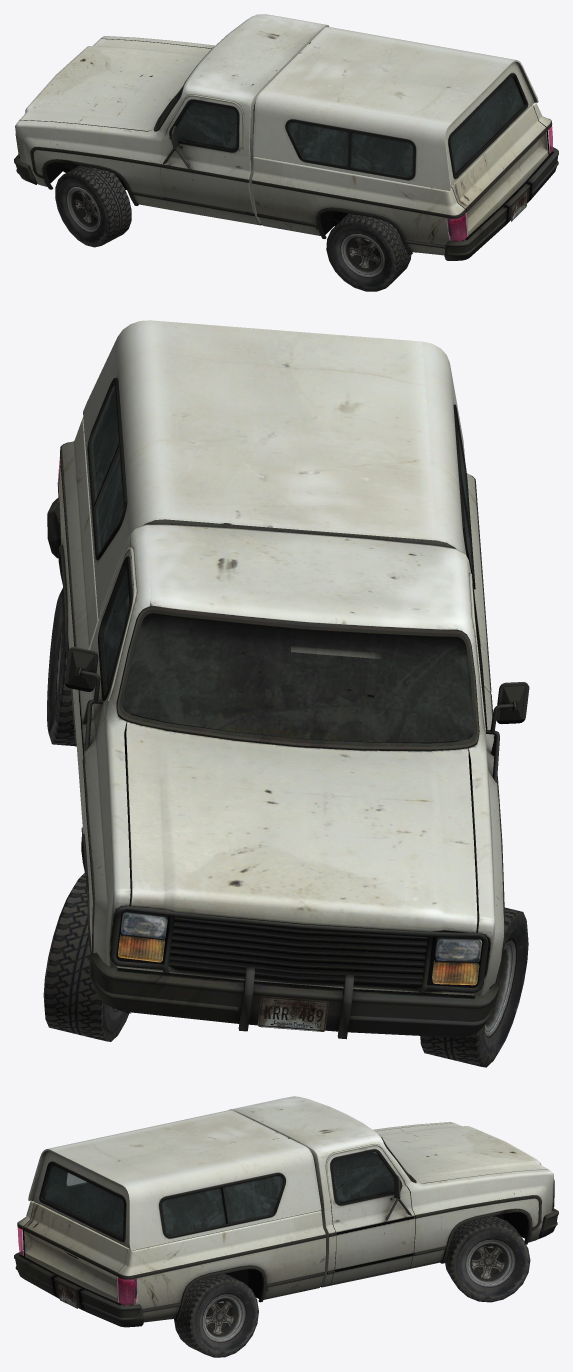
Rendered from 3DCar-Simpleoldcar.gltf.
3 renders of one model, top to bottom at view 1: azimuth 30°, elevation 25°; view 2: azimuth 150°, elevation 25°; view 3: azimuth 270°, elevation 25°, orthographic. The views are drawn at different scales.
Size of the model in its own units: 191 by 97.75 by 235.
2 materials, 2 textured.
